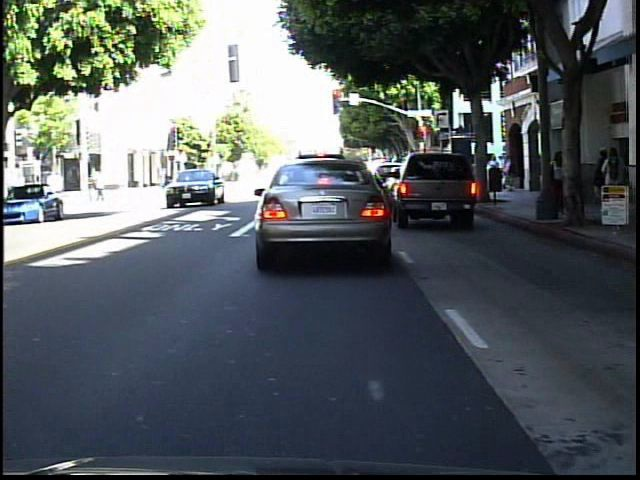person: (601, 143, 630, 218), (547, 146, 571, 217), (592, 147, 608, 208), (87, 162, 109, 205)
